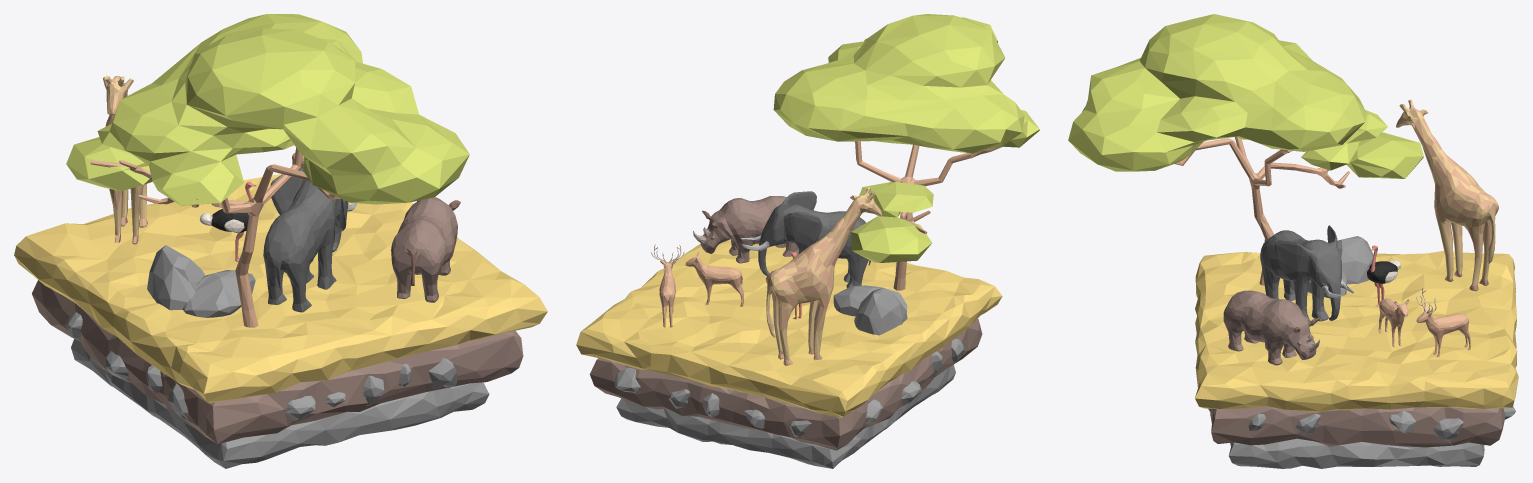
File: savanna.gltf
The picture shows the model from 3 angles, left to right: view 1: azimuth 30°, elevation 25°; view 2: azimuth 150°, elevation 25°; view 3: azimuth 270°, elevation 25°; orthographic projection. The views are drawn at different scales.
Visible parts, largest first — view 1: Plane.008, Plane.003, Plane.001, Icosphere.000, Plane.002, Icosphere.002, Icosphere.004, Plane.005; view 2: Plane.008, Plane.002, Plane.003, Plane.001, Icosphere.000, Icosphere.001, Plane.010, Icosphere.004, Plane.014; view 3: Plane.008, Plane.002, Plane.003, Plane.001, Icosphere.003, Icosphere.000, Plane.014, Plane.005, Plane.010.
Part boxes in pixels (x1,y1,x2,y2): Plane.008: (14, 14, 547, 468); Plane.003: (263, 168, 356, 312); Plane.001: (391, 197, 460, 302); Icosphere.000: (147, 245, 255, 317); Plane.002: (103, 75, 147, 244); Icosphere.002: (285, 358, 457, 420); Icosphere.004: (65, 312, 188, 419); Plane.005: (199, 181, 256, 261); Plane.008: (576, 14, 1039, 468); Plane.002: (765, 187, 881, 365); Plane.003: (741, 191, 870, 288); Plane.001: (693, 196, 798, 263); Icosphere.000: (833, 285, 907, 335); Icosphere.001: (614, 367, 811, 436); Plane.010: (685, 251, 744, 306); Icosphere.004: (865, 338, 964, 423); Plane.014: (651, 244, 684, 327); Plane.008: (1068, 14, 1518, 468); Plane.002: (1396, 99, 1498, 291); Plane.003: (1260, 225, 1353, 322); Plane.001: (1223, 290, 1319, 365); Icosphere.003: (1248, 410, 1463, 441); Icosphere.000: (1307, 236, 1373, 298); Plane.014: (1416, 288, 1470, 357); Plane.005: (1367, 245, 1401, 306); Plane.010: (1378, 298, 1409, 346).
Size of the model in its own units: 79.07 by 82.65 by 95.47.
7 materials, 6 textured.
